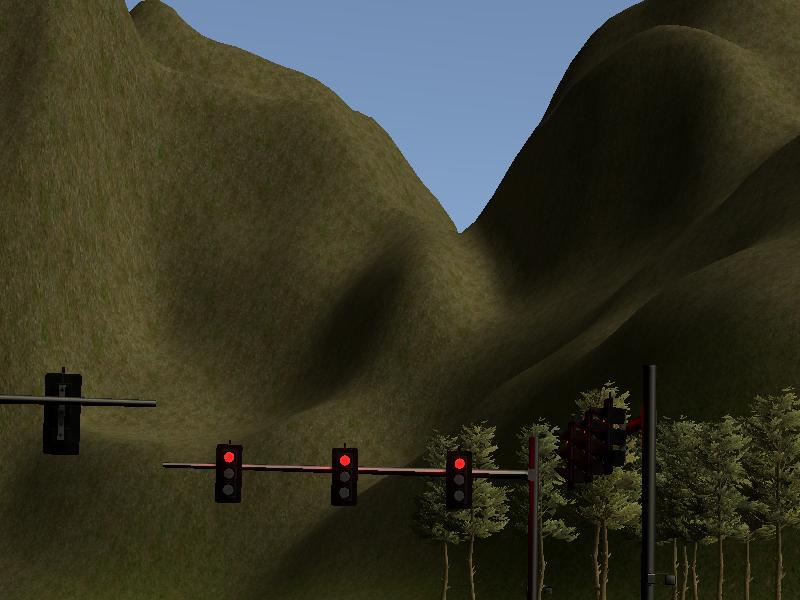Red: (330, 449, 356, 506), (447, 452, 472, 509), (218, 444, 241, 505)
